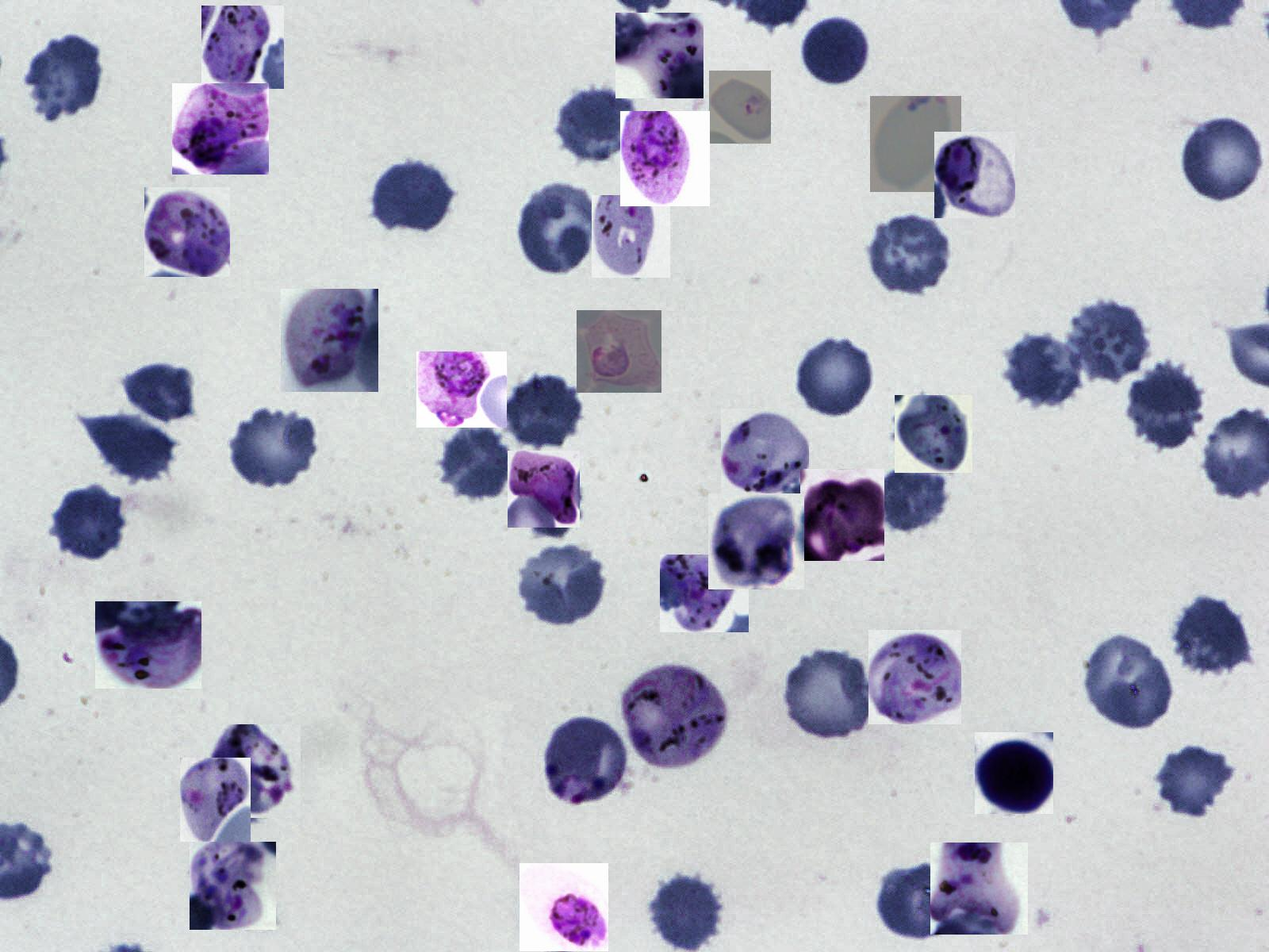Infected: (624, 665, 729, 769), (281, 289, 378, 392), (95, 601, 201, 689), (708, 493, 804, 589), (930, 843, 1028, 935), (172, 83, 269, 175), (868, 630, 961, 724), (208, 724, 301, 818), (870, 96, 961, 192), (620, 111, 710, 206), (543, 716, 631, 808), (519, 863, 608, 951), (144, 187, 230, 277), (800, 469, 884, 561), (721, 409, 809, 496), (190, 842, 276, 930), (615, 13, 704, 98), (416, 351, 507, 428), (577, 310, 661, 393), (934, 132, 1015, 218), (201, 6, 284, 89), (660, 555, 749, 632), (592, 195, 670, 278), (975, 732, 1053, 814), (895, 395, 972, 473), (180, 758, 251, 842), (508, 451, 580, 528), (709, 71, 771, 144)
Uninfected: (781, 646, 878, 743), (1082, 633, 1175, 734), (227, 401, 324, 489), (516, 539, 611, 628), (516, 178, 601, 274), (1179, 113, 1267, 205), (865, 211, 953, 297), (876, 857, 965, 941), (1125, 360, 1206, 452), (1068, 299, 1151, 382), (554, 83, 638, 165), (25, 33, 102, 121), (795, 336, 876, 419), (1171, 596, 1252, 678), (370, 156, 454, 235), (500, 374, 583, 451), (82, 411, 171, 482), (649, 869, 726, 951), (1005, 332, 1085, 410), (1155, 742, 1238, 817), (513, 459, 585, 541), (439, 424, 513, 501), (56, 485, 127, 562), (121, 359, 199, 427), (876, 466, 950, 535), (804, 17, 870, 88)
